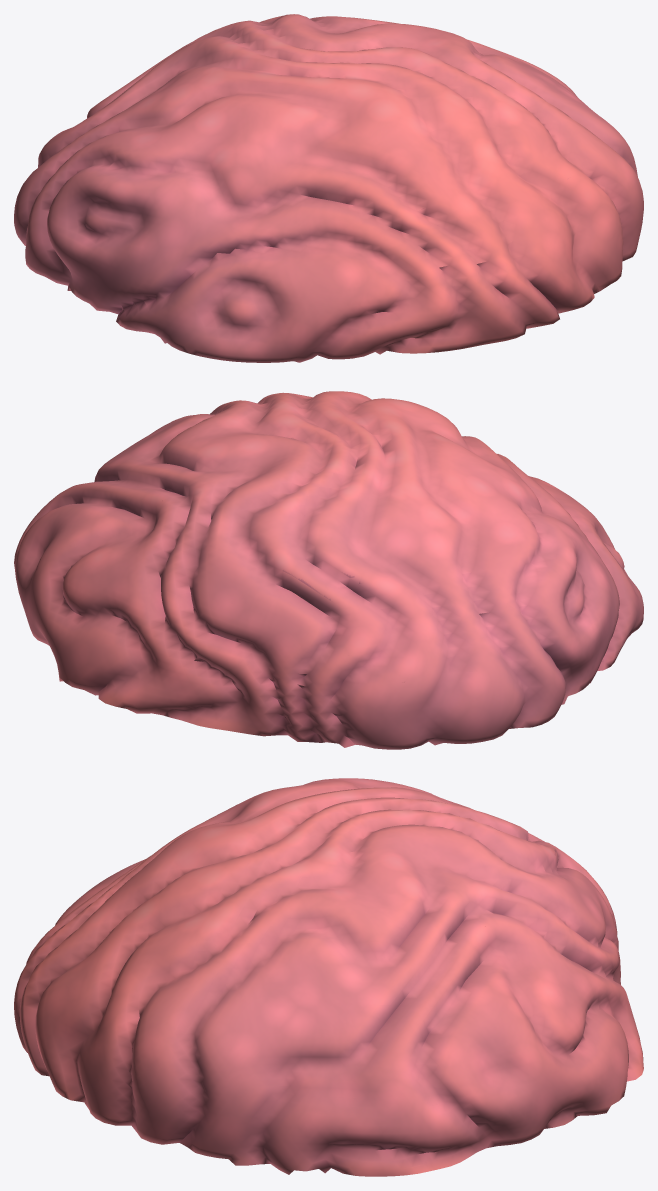
The model's file is WM_CoralBrain_A.fbx.
The picture shows the model from 3 angles, top to bottom: view 1: azimuth 30°, elevation 25°; view 2: azimuth 150°, elevation 25°; view 3: azimuth 270°, elevation 25°; orthographic projection. The views are drawn at different scales.
Parts seen in each view (by area): view 1: WM_CoralBrain_A_LOD0; view 2: WM_CoralBrain_A_LOD0; view 3: WM_CoralBrain_A_LOD0.
Part boxes in pixels (x1,y1,x2,y2): WM_CoralBrain_A_LOD0: (14, 14, 643, 362); WM_CoralBrain_A_LOD0: (14, 391, 643, 749); WM_CoralBrain_A_LOD0: (14, 778, 643, 1176).
Size of what is drawn, in the model's own units: 1.22 by 0.414 by 1.12.
